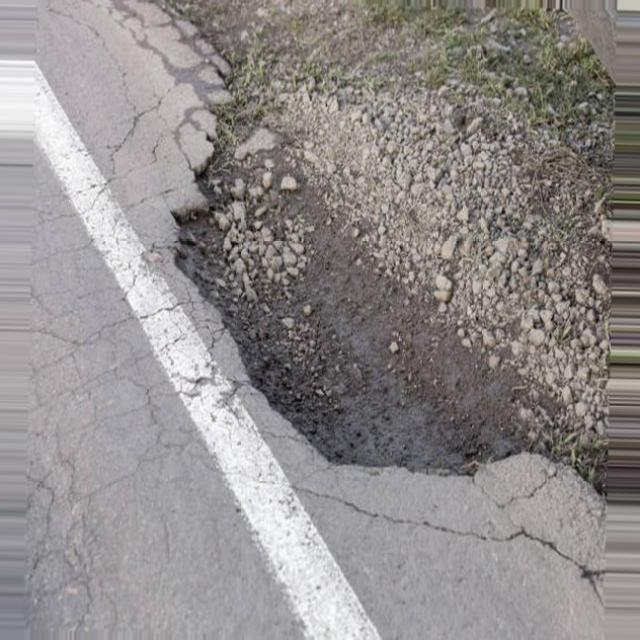Pinggir: (163, 56, 568, 481)
